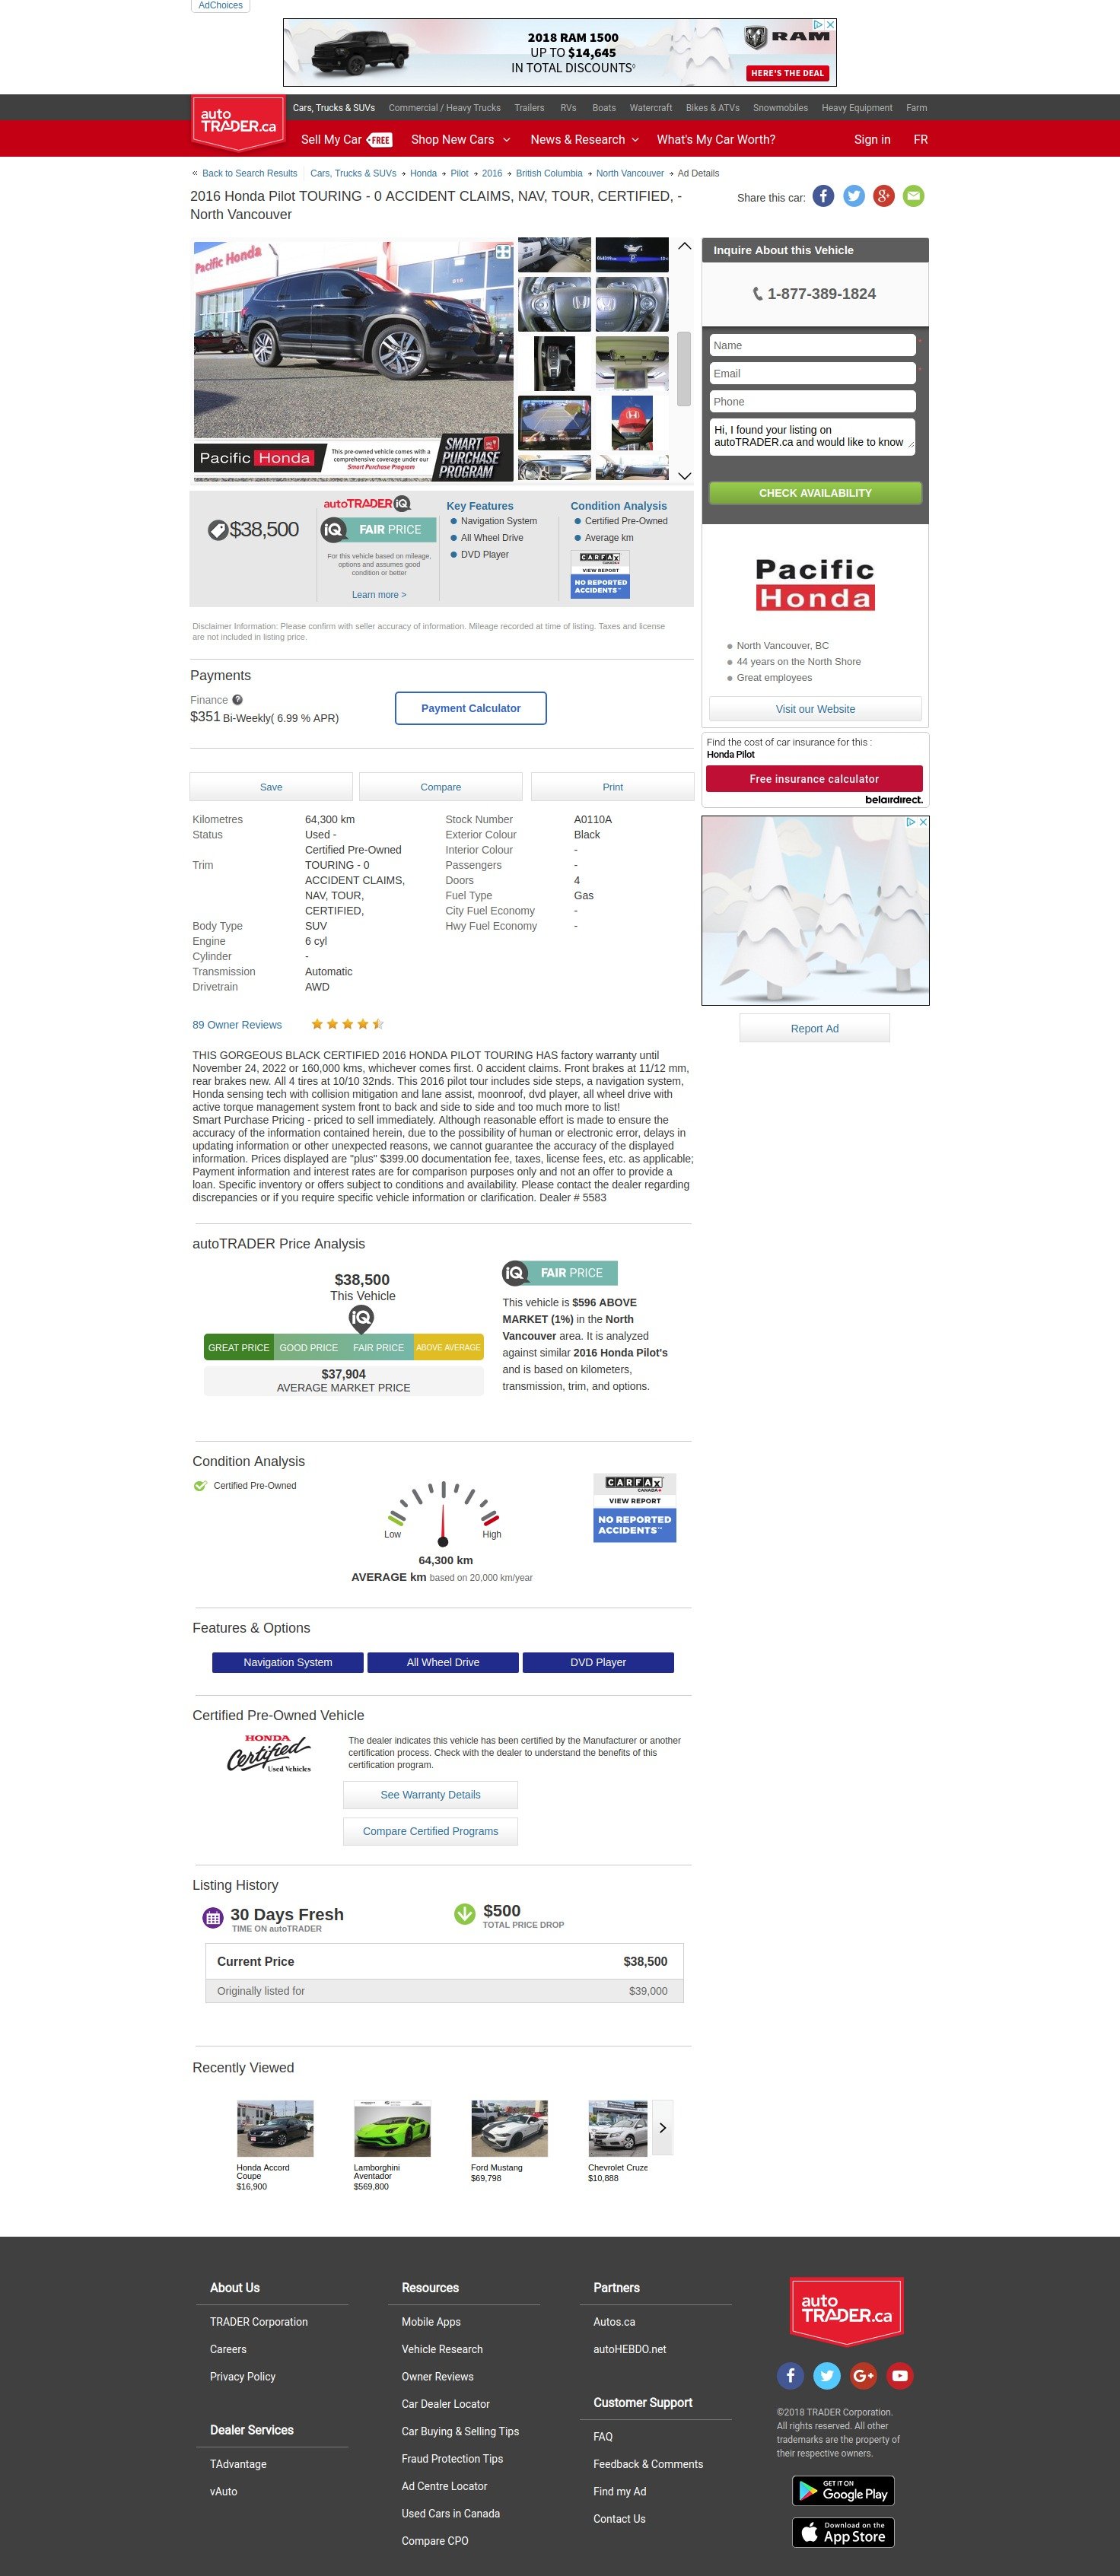car: (677, 472, 695, 483)
